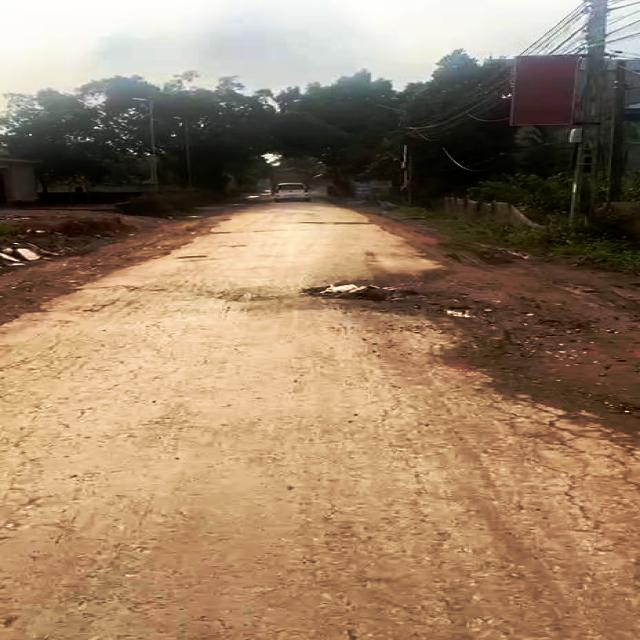pothole: (297, 282, 422, 308)
